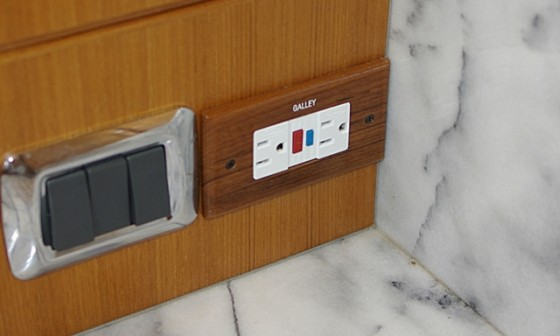outlet: (253, 135, 286, 166), (317, 116, 347, 149)
